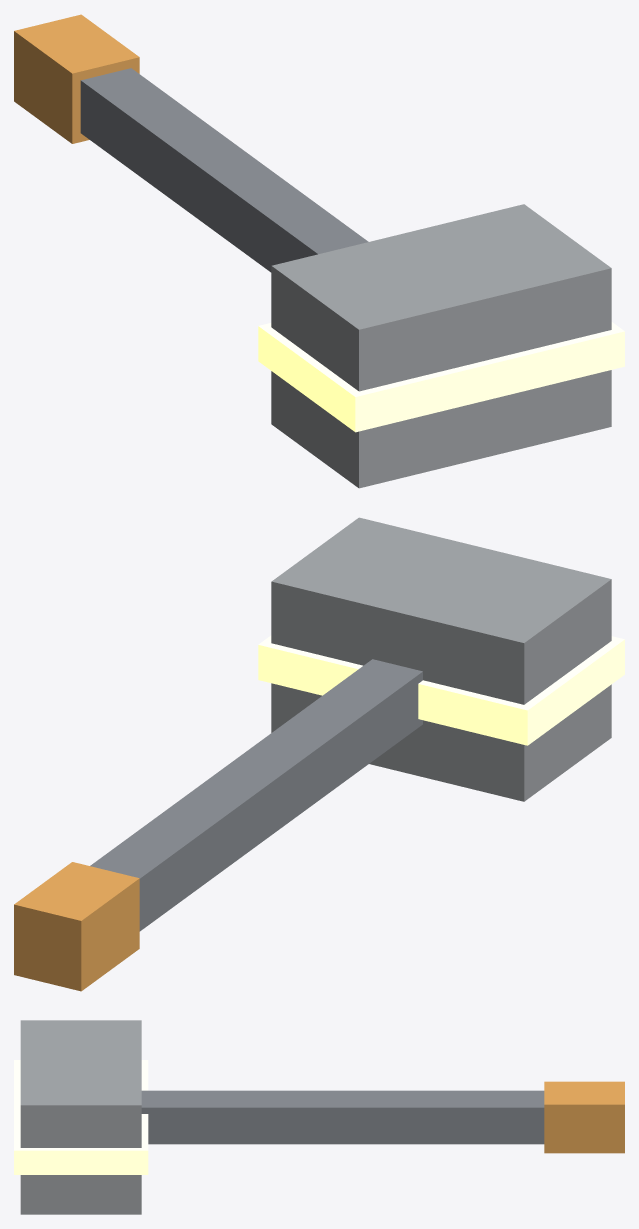
The model's file is breaker.glb.
3 renders of one model, top to bottom at view 1: azimuth 30°, elevation 25°; view 2: azimuth 150°, elevation 25°; view 3: azimuth 270°, elevation 25°, orthographic. The views are drawn at different scales.
Parts seen in each view (by area): view 1: gun; view 2: gun; view 3: gun.
Part boxes in pixels (<box>): gun: <box>14,14,624,488</box>; gun: <box>14,517,624,991</box>; gun: <box>14,1020,624,1214</box>.
Size of the model in its own units: 0.32 by 0.18 by 0.91.
